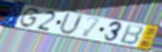2: (34, 11, 58, 33)
3: (102, 20, 124, 43)
7: (81, 16, 101, 39)
B: (118, 23, 145, 46)
G: (19, 7, 41, 29)
U: (57, 12, 84, 36)
